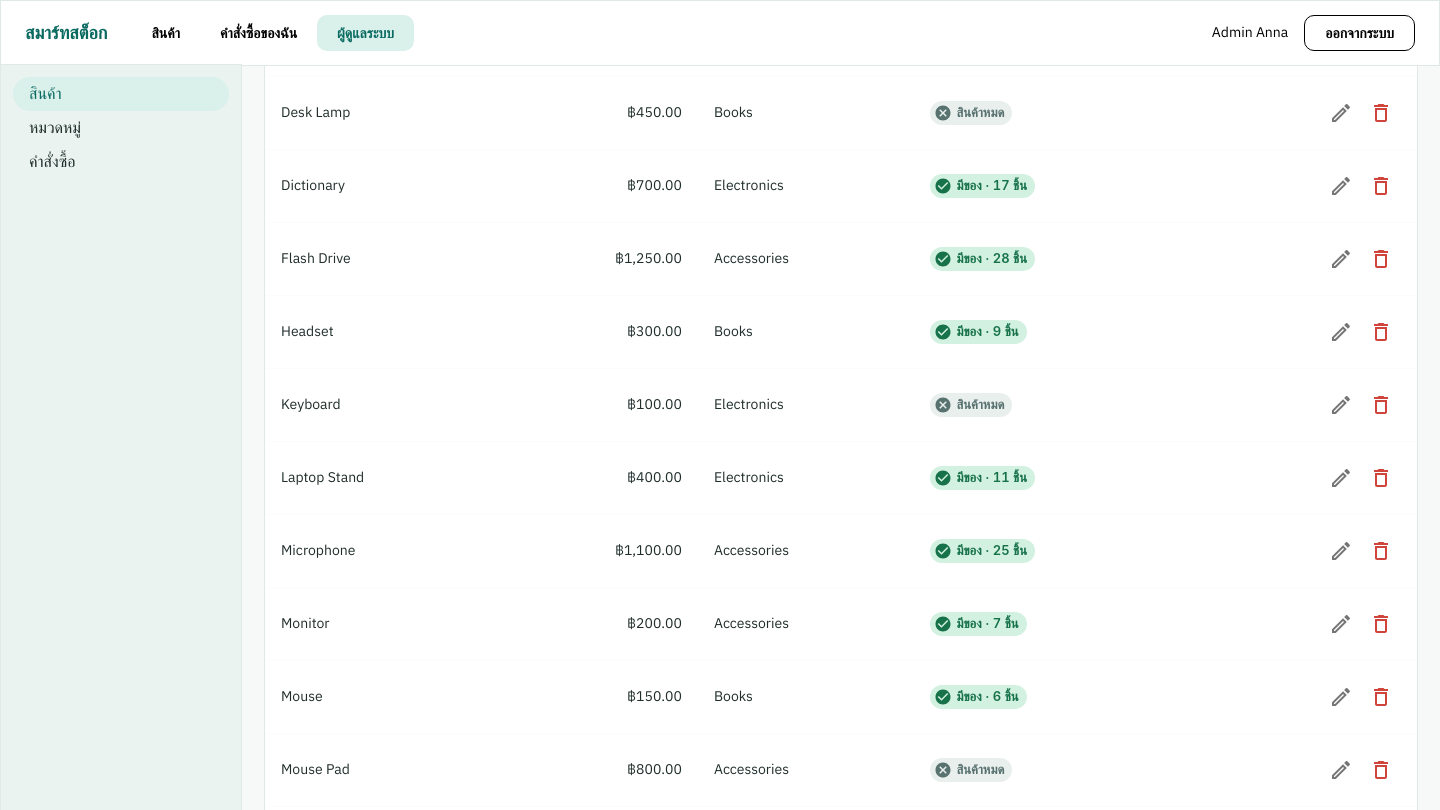
it: removes a row after the delete is confirmed
(page scrolled)
Click the button named "ลบ Keyboard".
click(1381, 405)  # box [1361,385,1401,425]
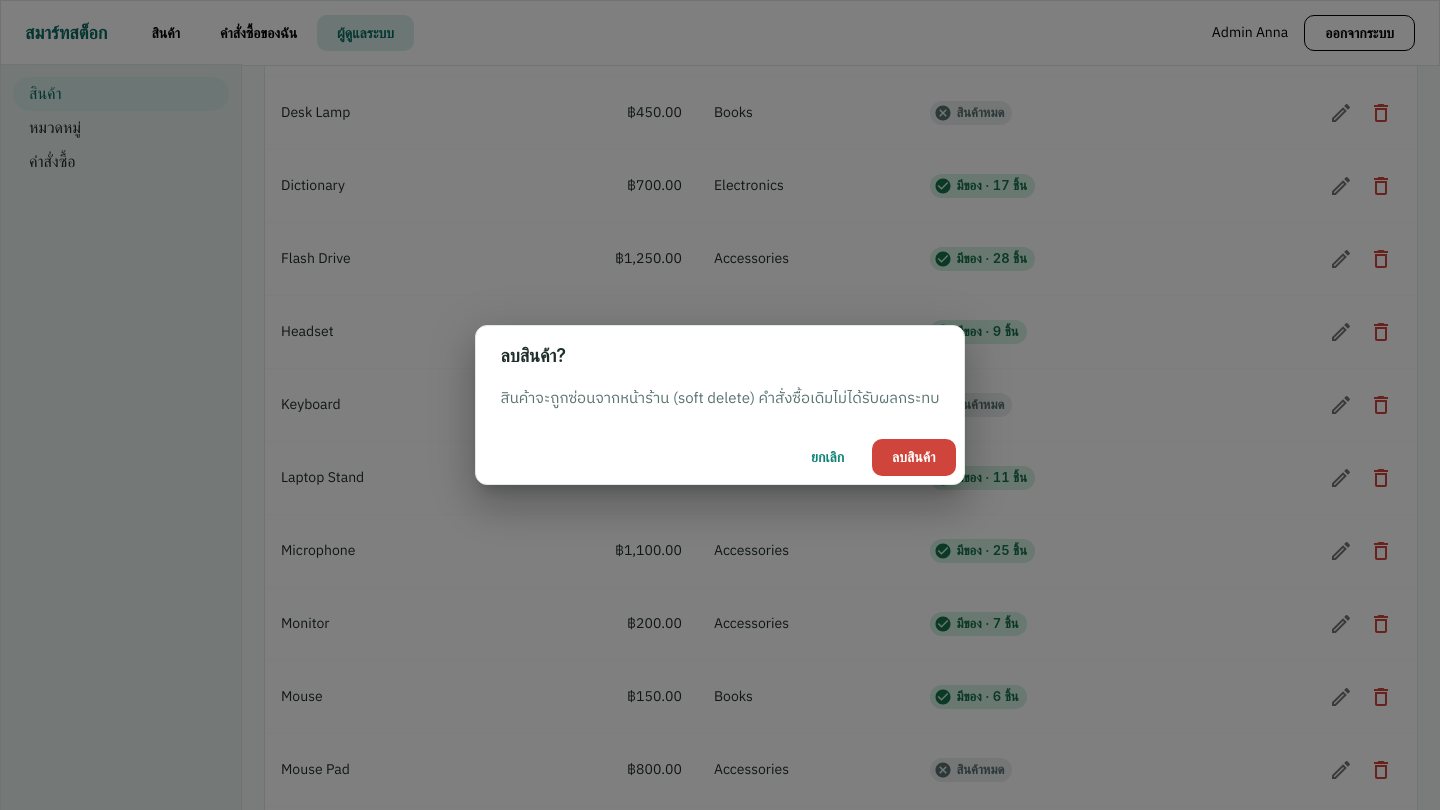
Click the button "ลบสินค้า".
click(914, 457)  # box [872,439,956,476]
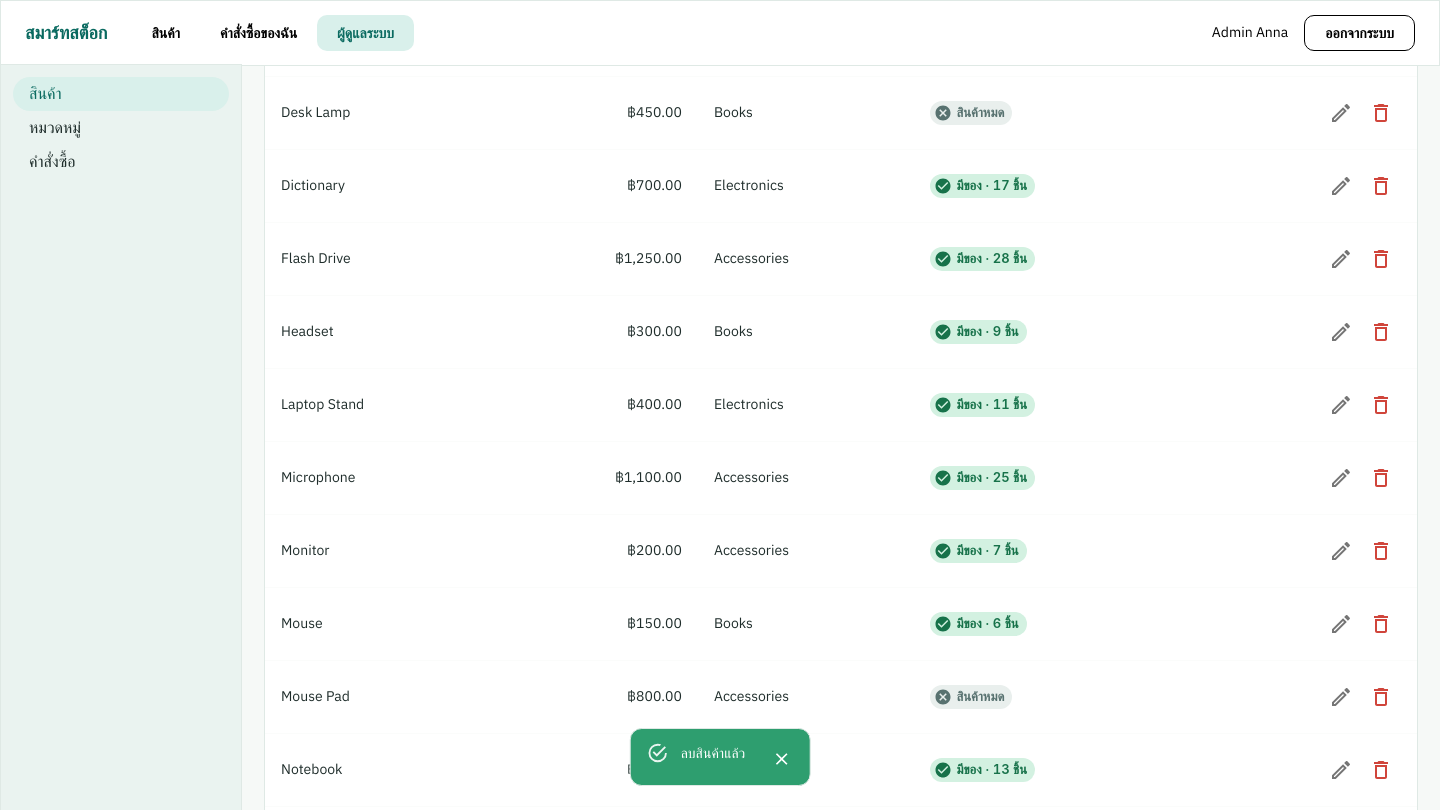
Expected: the cell "Keyboard" is gone
